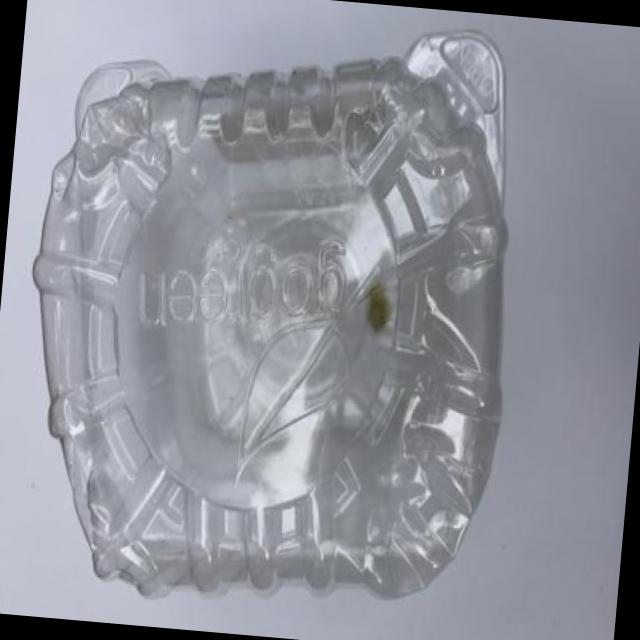Recycle: (0, 0, 532, 639)
